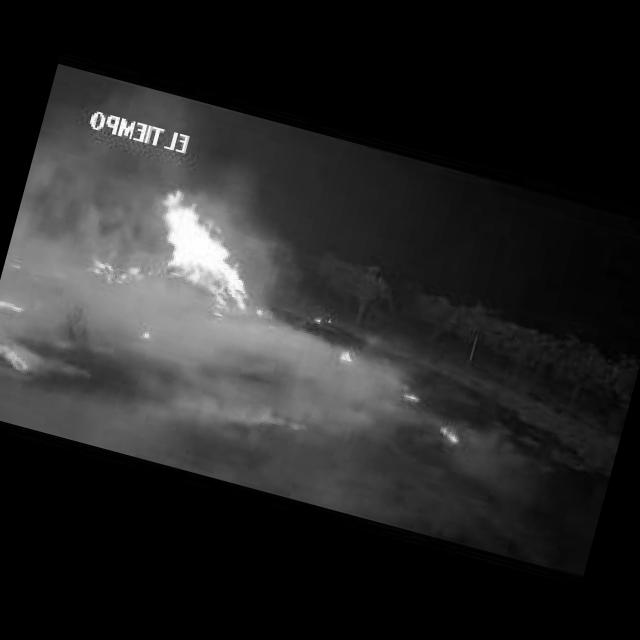fire: (142, 186, 274, 318), (88, 251, 140, 287), (0, 325, 38, 368), (438, 425, 460, 442), (0, 297, 26, 311), (338, 348, 355, 364), (401, 390, 420, 402), (142, 328, 152, 341), (253, 309, 264, 317), (314, 315, 321, 322)
